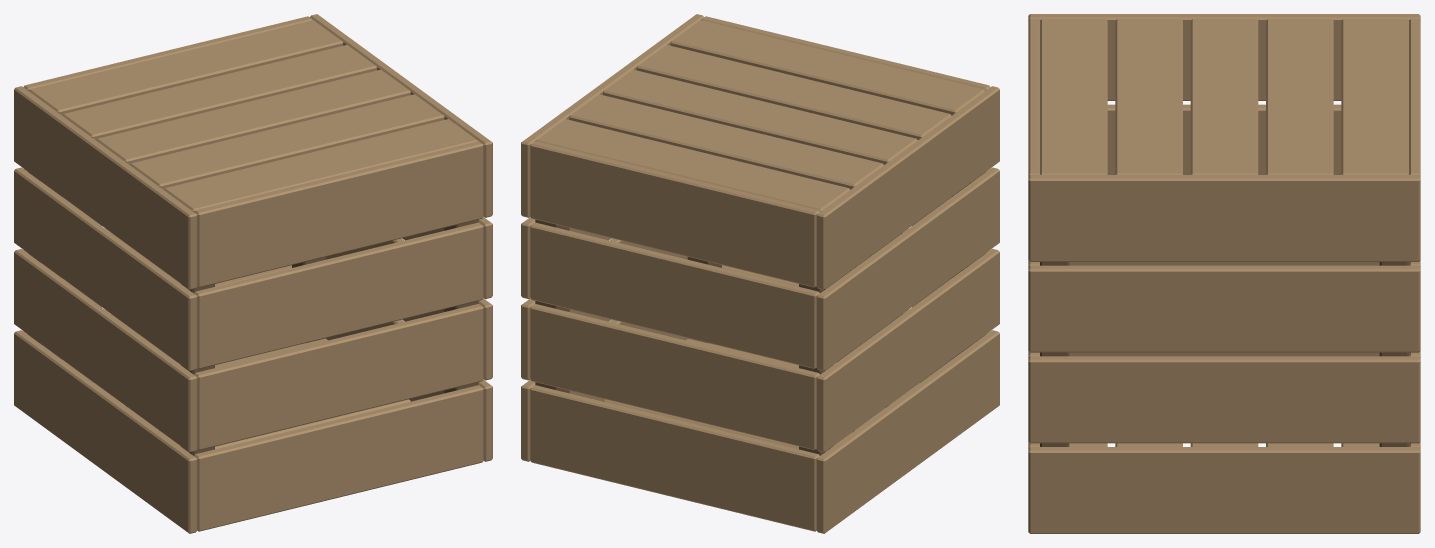
The model's file is crate_small.glb.
3 views of the same model, side by side, from view 1: azimuth 30°, elevation 25°; view 2: azimuth 150°, elevation 25°; view 3: azimuth 270°, elevation 25° (orthographic). The views are drawn at different scales.
Parts seen in each view (by area): view 1: crate_small; view 2: crate_small; view 3: crate_small.
Part boxes in pixels (box(x1,y1,x2,y2)): crate_small: box(14, 14, 492, 533); crate_small: box(521, 14, 999, 533); crate_small: box(1028, 14, 1420, 533).
Bounding box in the file's own units: 0.6 × 0.6 × 0.6.
